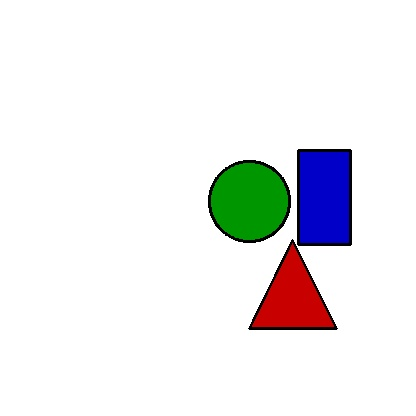circle: (209, 142, 289, 260)
rectangle: (298, 150, 350, 244)
triangle: (249, 240, 336, 328)
